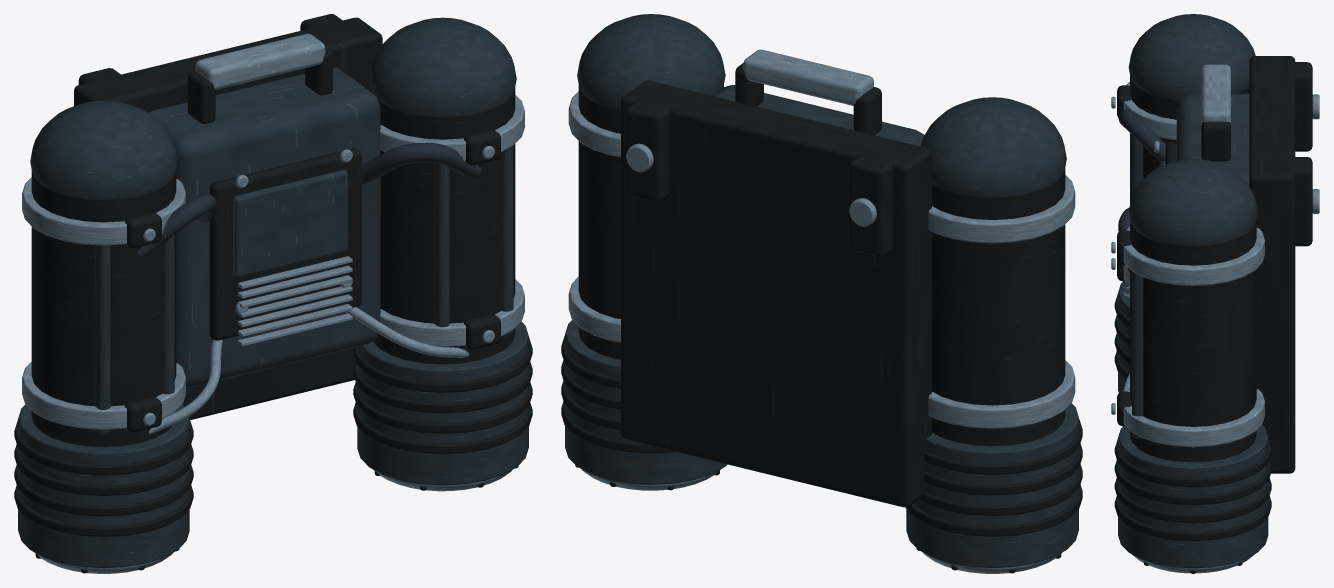
The model's file is scout_jetpack.glb.
3 views of the same model, side by side, from view 1: azimuth 30°, elevation 25°; view 2: azimuth 150°, elevation 25°; view 3: azimuth 270°, elevation 25° (orthographic). The views are drawn at different scales.
Visible parts, largest first — view 1: Armored tank dome, Carry handle upright, Carry handle upper, Braided propellant line; view 2: Carry handle upright, Armored tank dome, Carry handle upper; view 3: Carry handle upright, Armored tank dome, Carry handle upper, Braided propellant line.
Part boxes in pixels (x1,y1,x2,y2): Armored tank dome: (18,17,528,568); Carry handle upright: (14,14,532,573); Carry handle upper: (22,33,524,573); Braided propellant line: (137,142,481,259); Carry handle upright: (561,63,1082,573); Armored tank dome: (565,14,1078,567); Carry handle upper: (568,49,1075,573); Carry handle upright: (1114,56,1312,573); Armored tank dome: (1118,14,1268,568); Carry handle upper: (1111,64,1319,573); Braided propellant line: (1118,109,1166,273).
Bounding box in the file's own units: 0.758 × 0.6501 × 0.3165.
5 materials, 3 textured.
